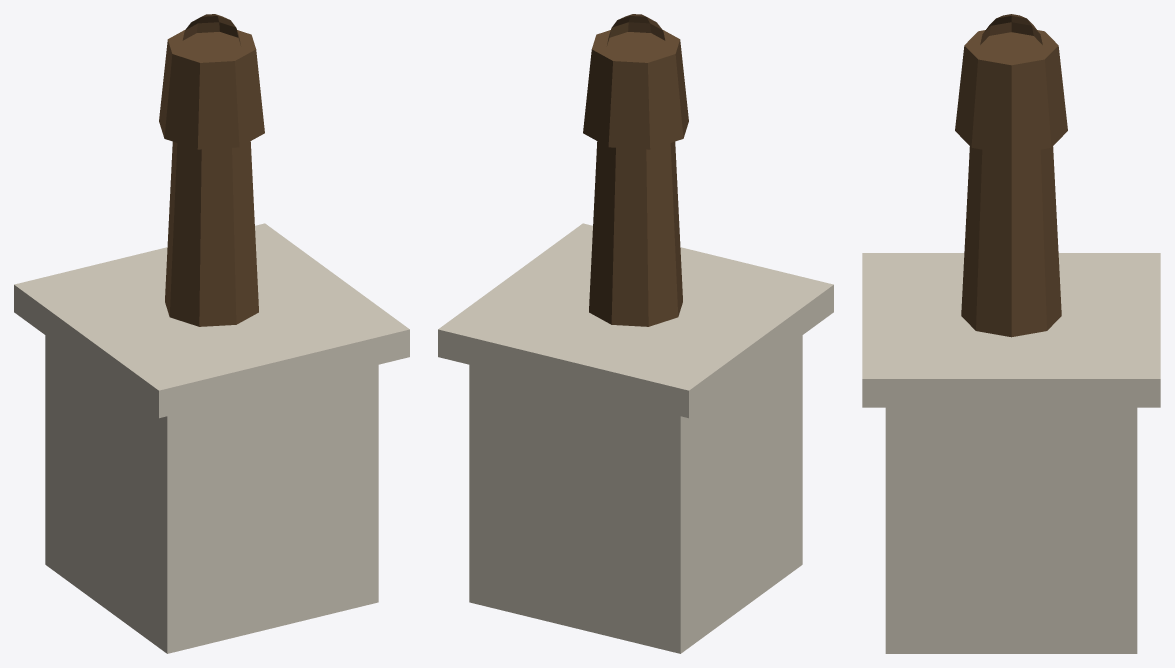
The model's file is statue_uoa.glb.
The picture shows the model from 3 angles, left to right: view 1: azimuth 30°, elevation 25°; view 2: azimuth 150°, elevation 25°; view 3: azimuth 270°, elevation 25°; orthographic projection. The views are drawn at different scales.
Visible parts, largest first — view 1: statue_uoa_lod0; view 2: statue_uoa_lod0; view 3: statue_uoa_lod0.
Part boxes in pixels (box(x1,y1,x2,y2)): statue_uoa_lod0: box(14, 14, 409, 653); statue_uoa_lod0: box(438, 14, 833, 653); statue_uoa_lod0: box(862, 14, 1160, 653).
Size of what is drawn, in the model's own units: 1.9 by 4.1 by 1.9.
